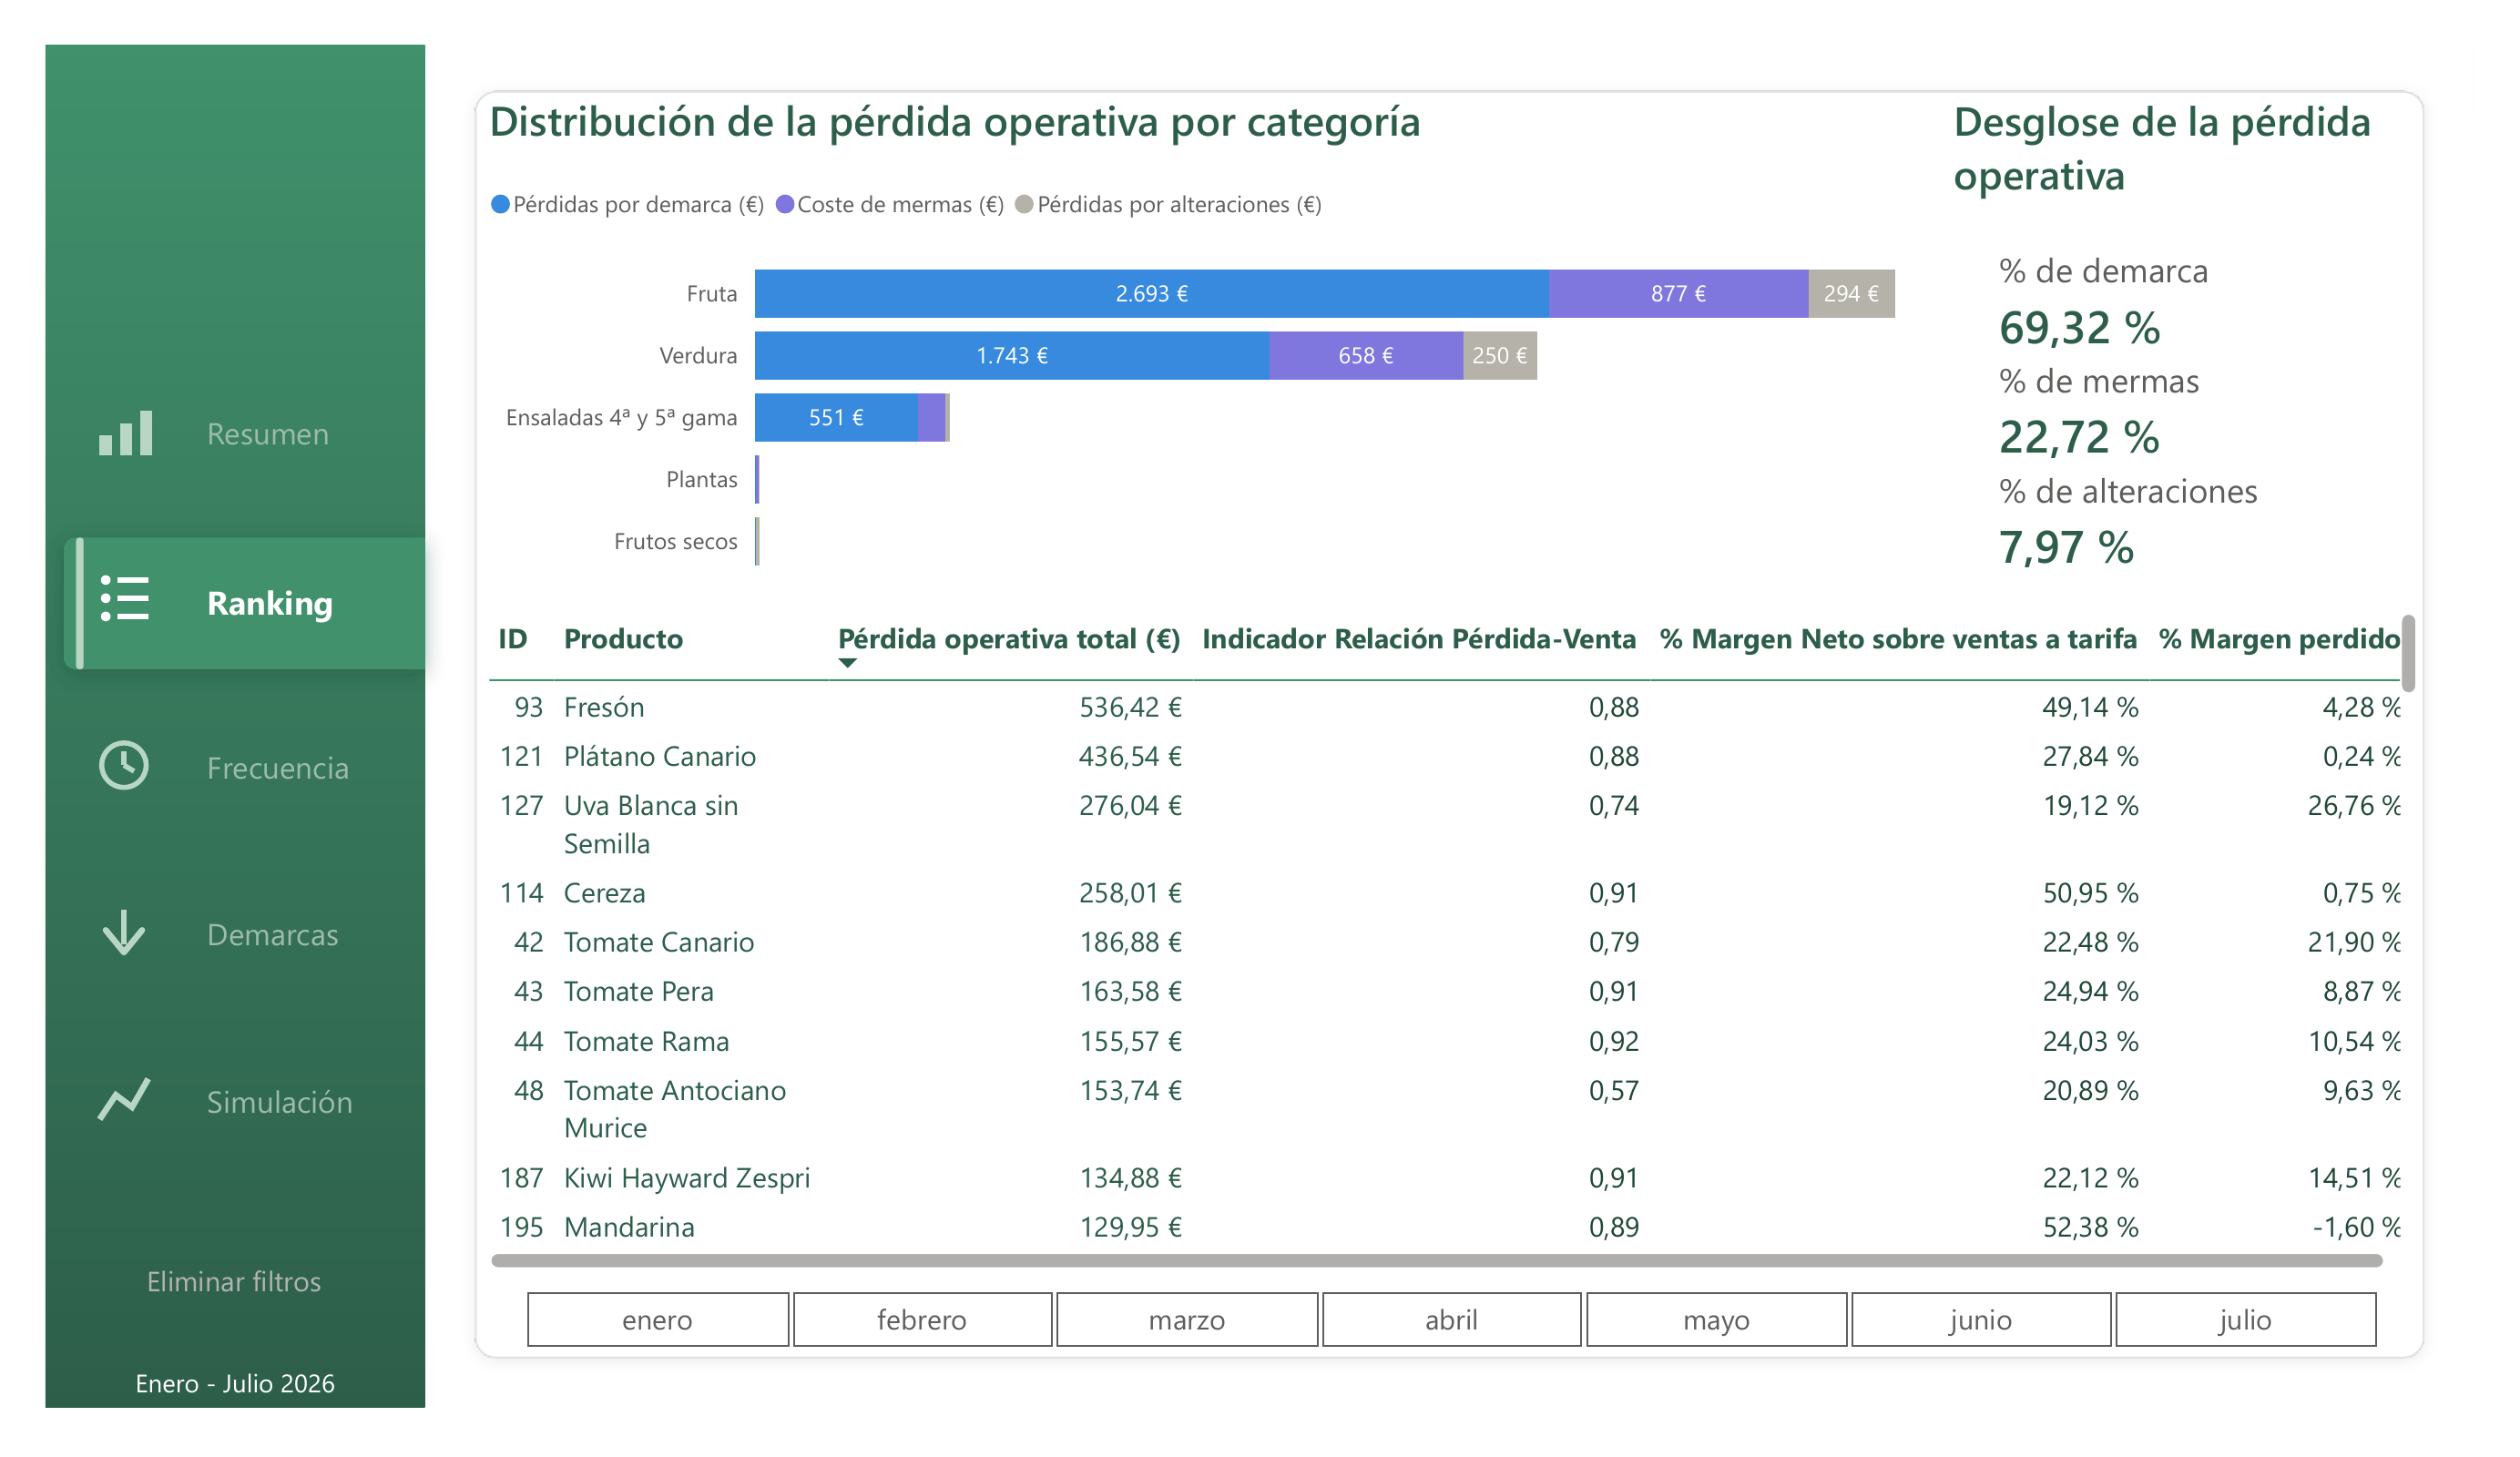

The dashboard page shown, as its layout file describes it:
{"tool":"powerbi","page":{"name":"Ranking","canvas":[1280,720],"ordinal":1},"visuals":[{"type":"tableEx","fields":{"Values":["Productos.producto_id","Productos.nombre","_Medidas_Pérdidas_Operativas.Pérdida operativa total (€)","_Medidas_Pérdidas_Operativas.Indicador Relación Pérdida-Venta","_Medidas_Rentabilidad_producto.% Margen Neto del producto","_Medidas_Rentabilidad_producto.% Margen perdido"]},"box":[227.5,293.8,1027.5,356.2],"z":0},{"type":"barChart","title":"Distribución de la pérdida operativa por categoría","fields":{"Category":["Productos.Categoría"],"Y":["_Medidas_Pérdidas_Operativas.Pérdidas por demarca (€)","_Medidas_Pérdidas_Operativas.Coste de mermas (€)","_Medidas_Pérdidas_Operativas.Pérdidas por alteraciones (€)"]},"box":[228.6,25.1,772.7,268.4],"z":1000},{"type":"slicer","fields":{"Values":["Calendario.Nombre Mes"]},"box":[227.5,650,1025,41.2],"z":2000},{"type":"actionButton","box":[0,178.6,200,45.7],"z":3000},{"type":"actionButton","box":[0,440,200,51.4],"z":4000},{"type":"actionButton","box":[0,355.7,200,52.9],"z":5000},{"type":"actionButton","box":[0,532.9,200,47.1],"z":6000},{"type":"cardVisual","title":"Desglose de la pérdida operativa","fields":{"Data":["_Medidas_Pérdidas_Operativas.% de demarcas","_Medidas_Pérdidas_Operativas.% de mermas","_Medidas_Pérdidas_Operativas.% de alteraciones"]},"box":[1001.3,25.1,253.6,268.4],"z":7000},{"type":"textbox","box":[0,688.9,200,31.4],"z":8000},{"type":"actionButton","box":[23.8,627.5,151.2,45],"z":9000}]}

Visuals, with their boxes on the page's 1280x720 design canvas (x1, y1, x2, y2). These are canvas units, not pixel positions in the 2520x1457 screenshot, which may show the page scaled, cropped or inside an application window:
tableEx - Productos.producto_id x Productos.nombre: crop(228, 294, 1255, 650)
"Distribución de la pérdida operativa por categoría" barChart: crop(229, 25, 1001, 294)
slicer - Calendario.Nombre Mes: crop(228, 650, 1252, 691)
actionButton: crop(0, 179, 200, 224)
actionButton: crop(0, 440, 200, 491)
actionButton: crop(0, 356, 200, 409)
actionButton: crop(0, 533, 200, 580)
"Desglose de la pérdida operativa" cardVisual: crop(1001, 25, 1255, 294)
textbox: crop(0, 689, 200, 720)
actionButton: crop(24, 628, 175, 672)
